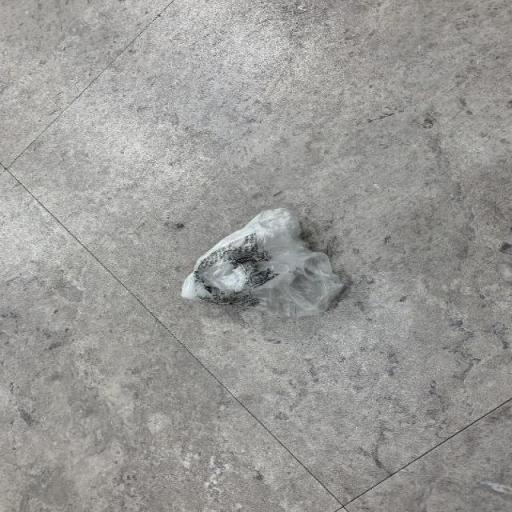plastic-bag: (180, 206, 351, 324)
